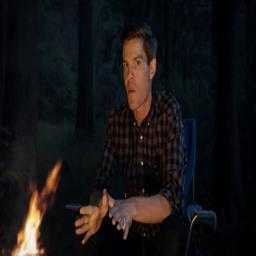fire: (8, 162, 60, 256)
